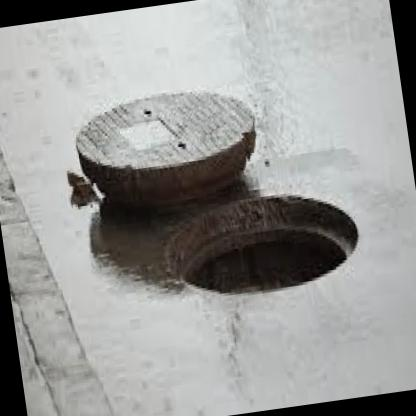manholes: (35, 27, 392, 396)
